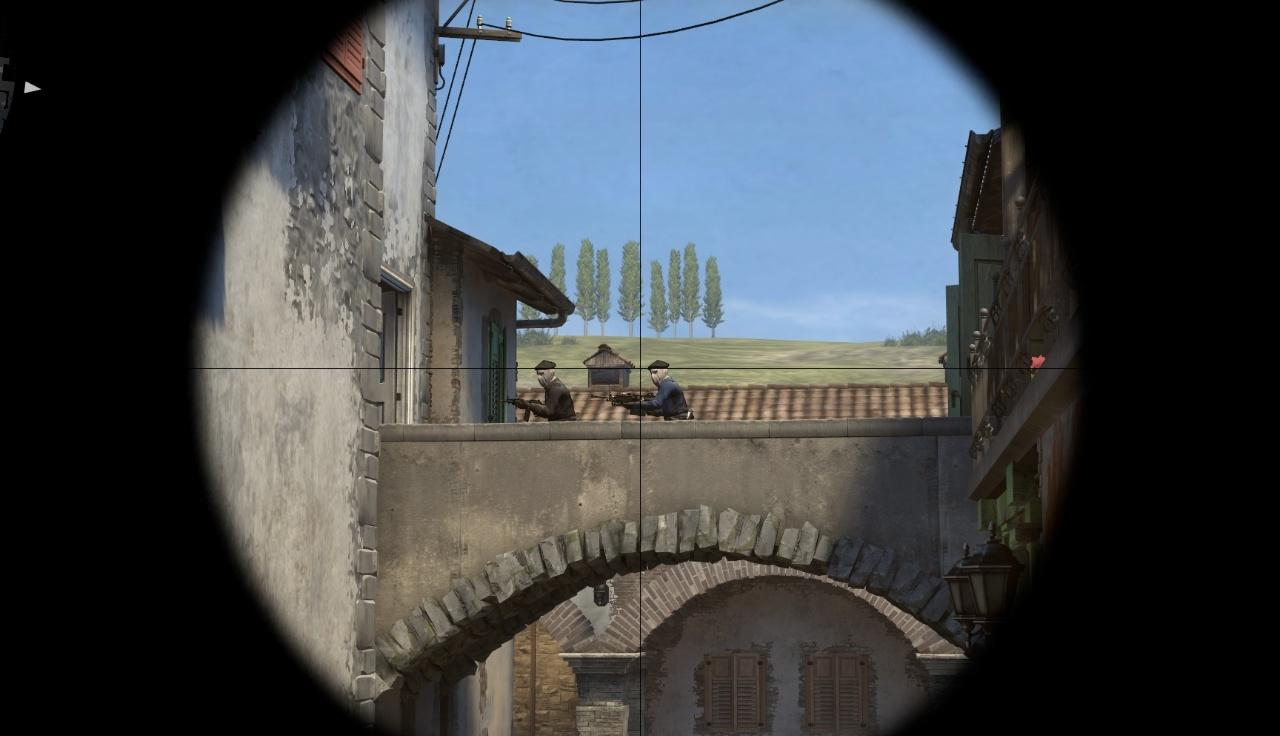tt: (646, 361, 684, 420), (532, 360, 566, 421)
tthead: (536, 362, 556, 386), (649, 362, 668, 383)
